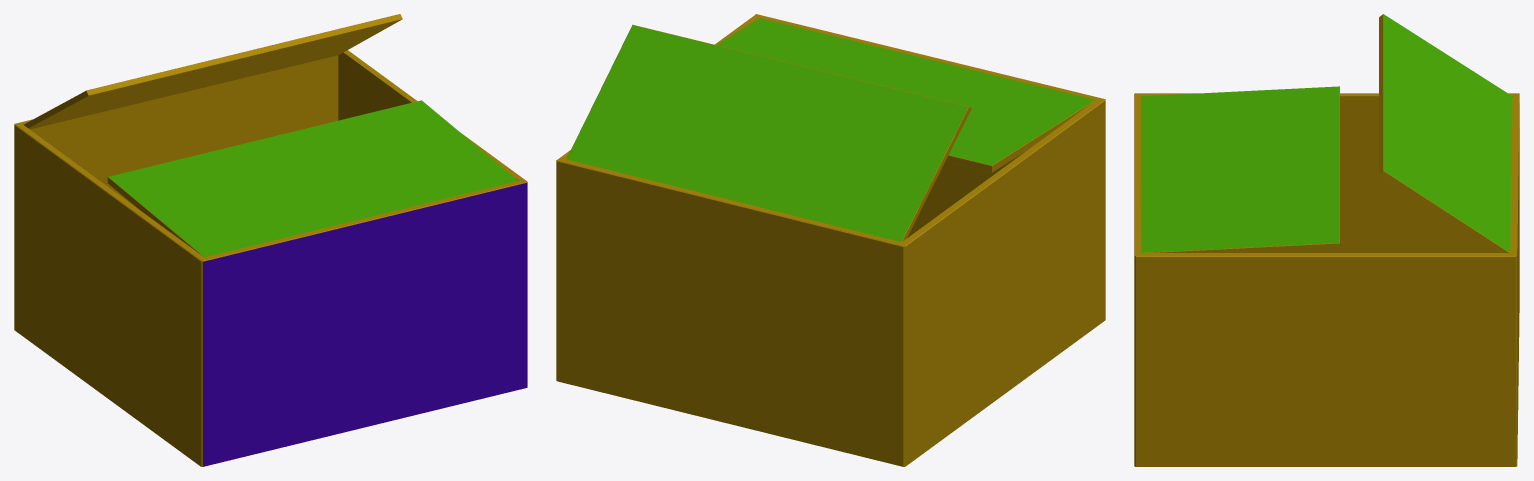
The model's file is Textured_SmallOpenBoxKK.fbx.
The picture shows the model from 3 angles, left to right: view 1: azimuth 30°, elevation 25°; view 2: azimuth 150°, elevation 25°; view 3: azimuth 270°, elevation 25°; orthographic projection. The views are drawn at different scales.
Visible parts, largest first — view 1: SmallOpenBox; view 2: SmallOpenBox; view 3: SmallOpenBox.
Boxes of the visible parts, x1,y1,x2,y2 form: SmallOpenBox: (14, 14, 527, 466); SmallOpenBox: (556, 14, 1105, 466); SmallOpenBox: (1134, 14, 1519, 466).
Size of the model in its own units: 40.69 by 34.03 by 40.57.
